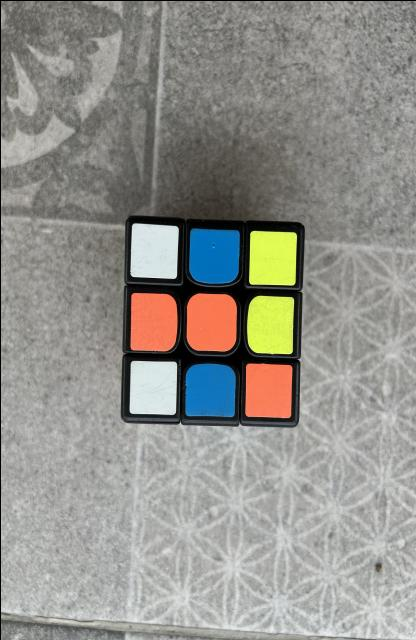Blue: (184, 362, 235, 416), (188, 228, 238, 282)
Orange: (185, 292, 236, 350), (129, 291, 177, 350), (244, 362, 291, 418)
White: (129, 222, 178, 278), (129, 360, 177, 414)
Yellow: (246, 295, 294, 354), (248, 230, 296, 285)
